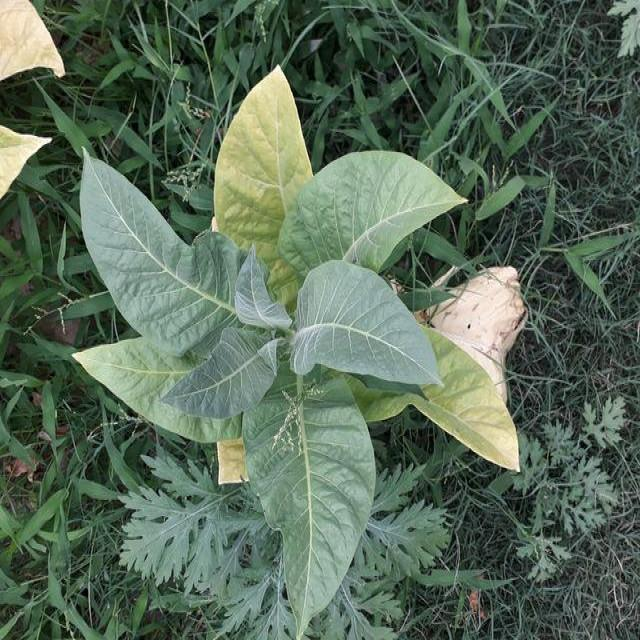crop: (77, 73, 532, 594), (0, 8, 67, 196)
